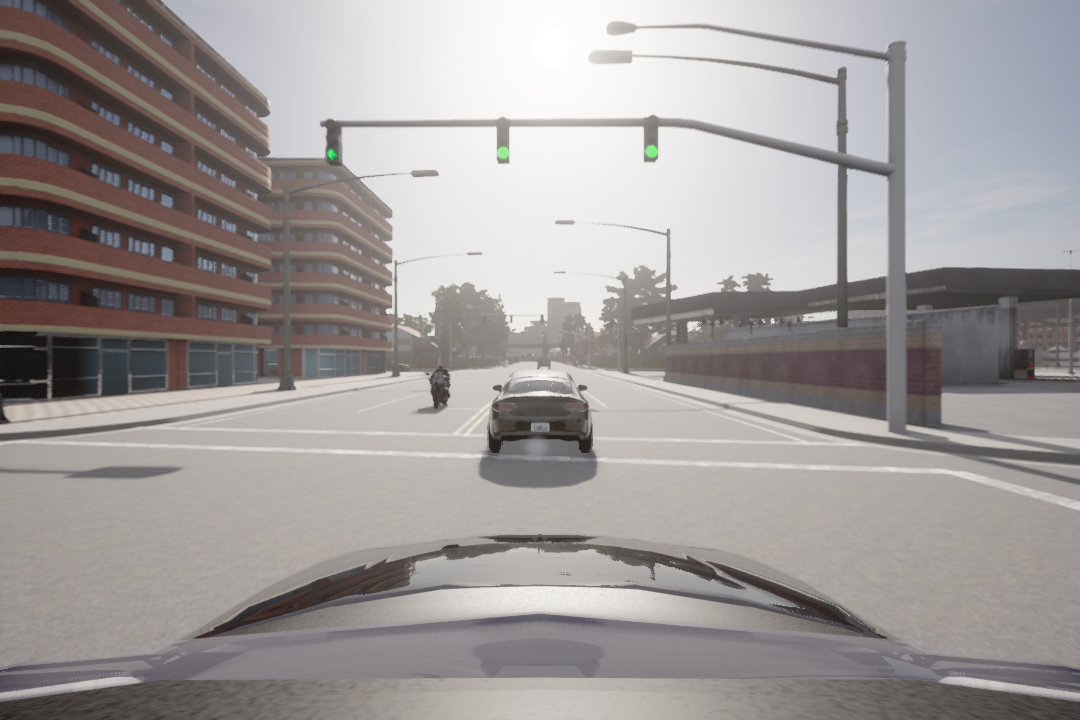TrafficLight: (490, 116, 513, 170), (323, 117, 345, 169), (640, 116, 662, 165)
